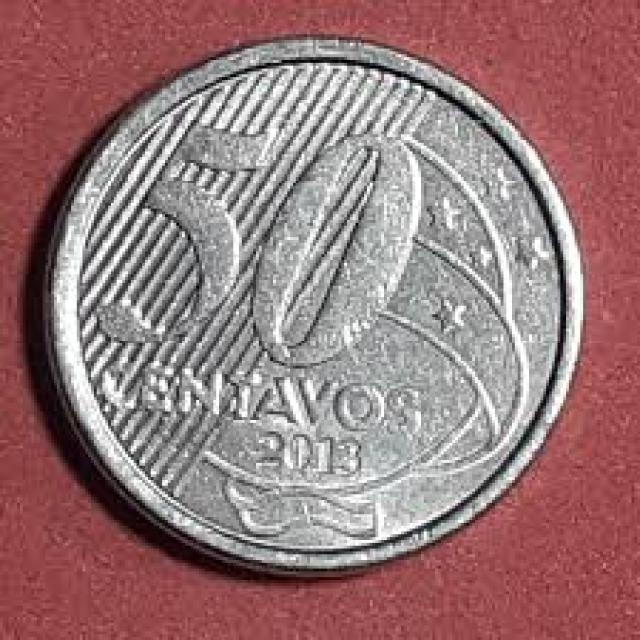50 cent: (48, 38, 576, 574)
